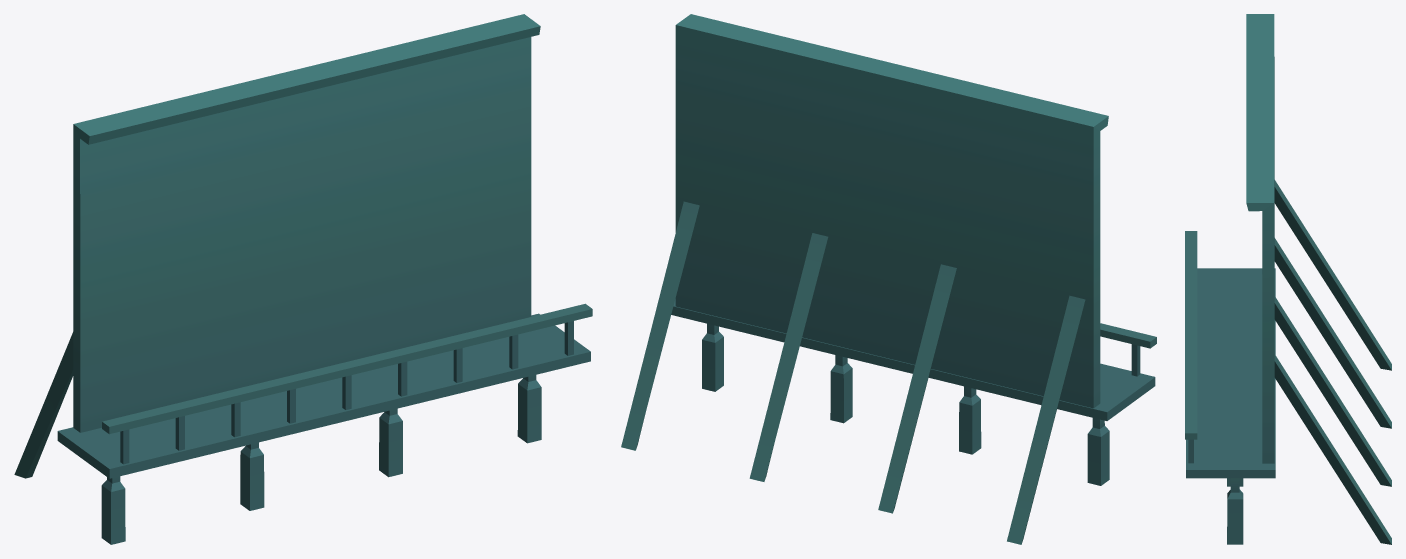
Rendered from Bilboard_1_B.fbx.
The picture shows the model from 3 angles, left to right: view 1: azimuth 30°, elevation 25°; view 2: azimuth 150°, elevation 25°; view 3: azimuth 270°, elevation 25°; orthographic projection. The views are drawn at different scales.
Visible parts, largest first — view 1: Bilboard_1_B; view 2: Bilboard_1_B; view 3: Bilboard_1_B.
Boxes of the visible parts, x1,y1,x2,y2 form: Bilboard_1_B: [14, 14, 592, 544]; Bilboard_1_B: [621, 14, 1156, 544]; Bilboard_1_B: [1185, 14, 1391, 544].
Bounding box in the file's own units: 298 × 238 × 129.
